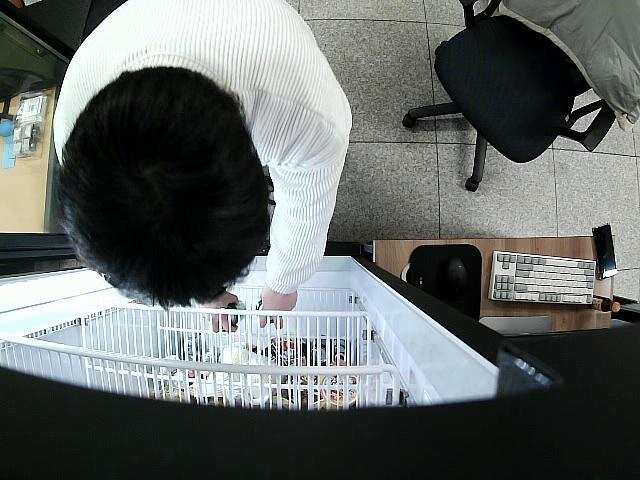12_chilsungCider: (228, 302, 248, 324)
